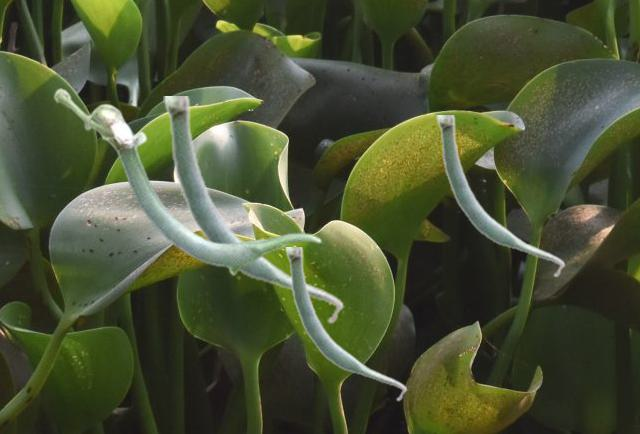french_bean: (53, 87, 321, 275), (163, 96, 343, 324), (436, 115, 564, 277), (285, 247, 406, 401)
